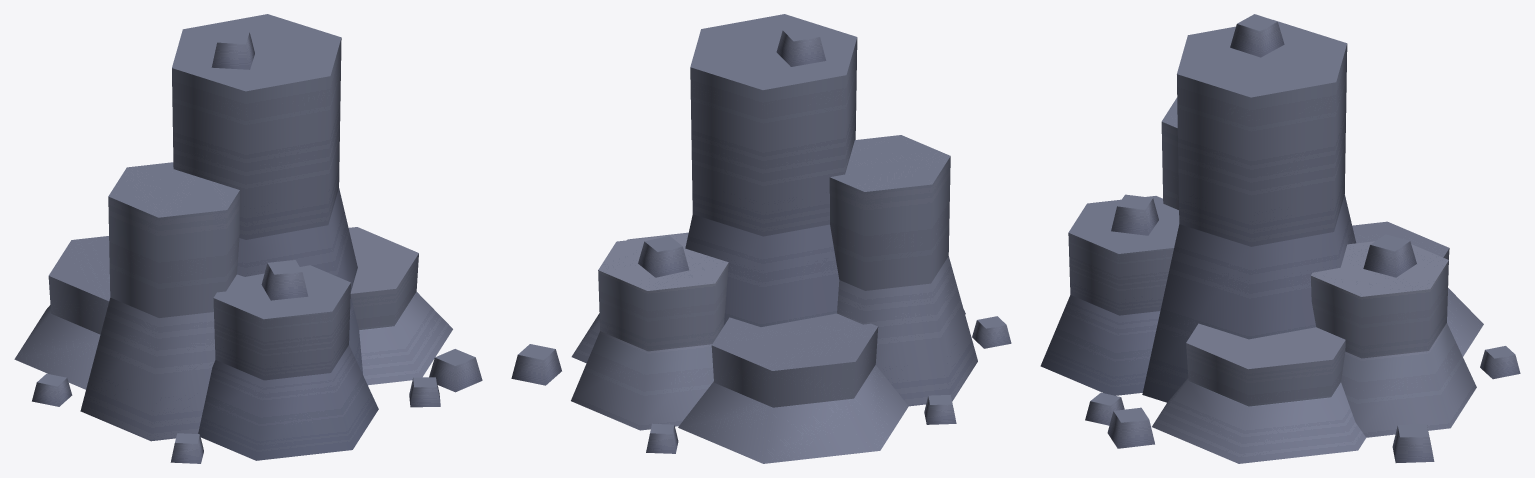
File: rocks-b.glb
3 views of the same model, side by side, from view 1: azimuth 30°, elevation 25°; view 2: azimuth 150°, elevation 25°; view 3: azimuth 270°, elevation 25° (orthographic). The views are drawn at different scales.
Parts seen in each view (by area): view 1: rocks-b; view 2: rocks-b; view 3: rocks-b.
Part boxes in pixels (x1,y1,x2,y2): rocks-b: [14, 14, 482, 463]; rocks-b: [511, 14, 1011, 463]; rocks-b: [1040, 14, 1520, 463].
Bounding box in the file's own units: 4.44 × 3.65 × 4.7.
Materials: 1 (1 with a texture image).
